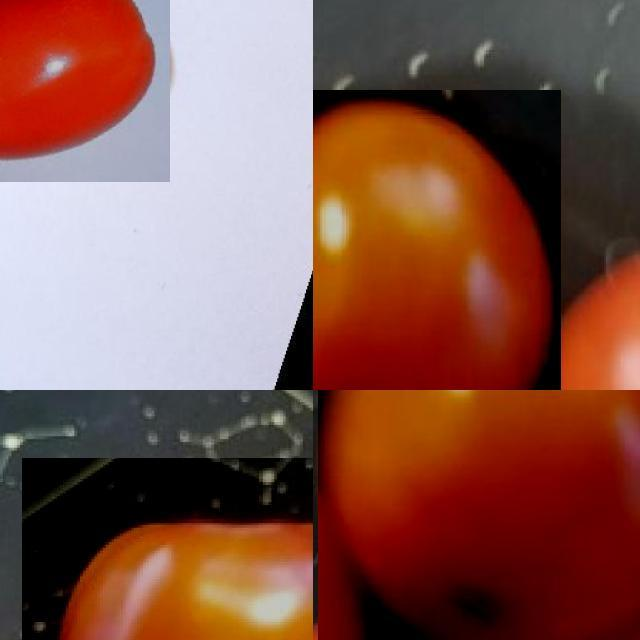Fresh Tomato: (317, 390, 640, 640), (313, 89, 561, 390), (21, 458, 313, 640), (0, 0, 169, 182)
